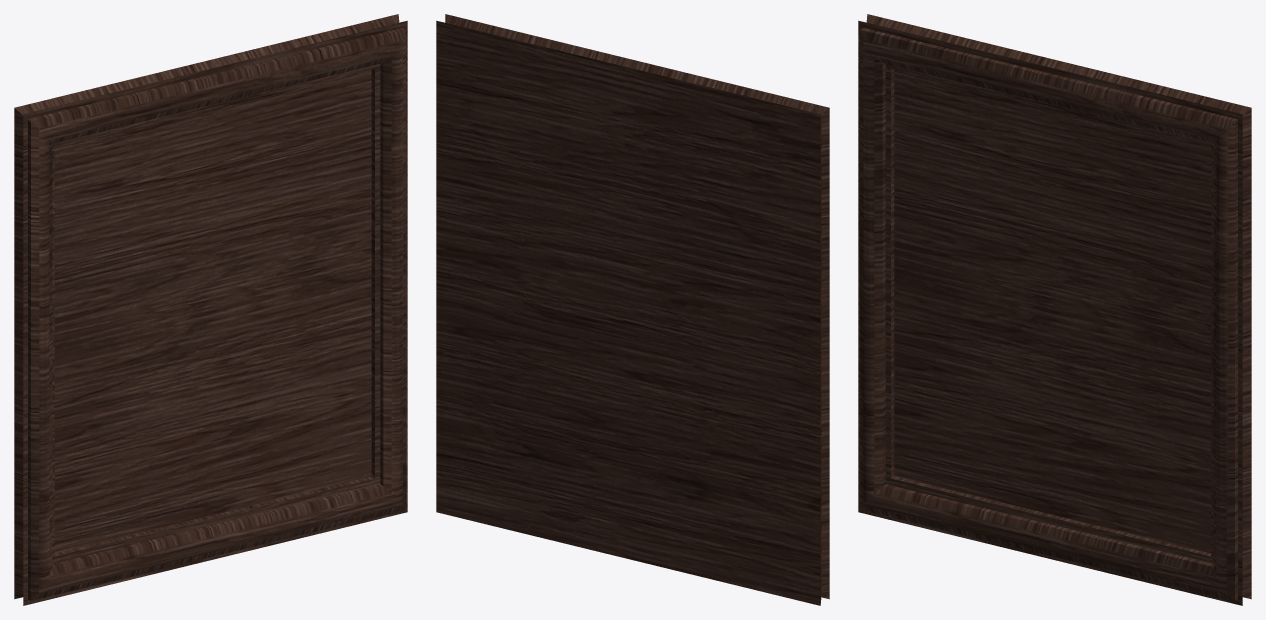
Rendered from fbx_Quadro_2.fbx.
3 renders of one model, left to right at view 1: azimuth 30°, elevation 25°; view 2: azimuth 150°, elevation 25°; view 3: azimuth 330°, elevation 25°, orthographic.
Parts seen in each view (by area): view 1: quadrinho1:pCube1; view 2: quadrinho1:pCube1; view 3: quadrinho1:pCube1.
Part boxes in pixels (x1,y1,x2,y2): quadrinho1:pCube1: [14, 14, 407, 605]; quadrinho1:pCube1: [436, 14, 829, 605]; quadrinho1:pCube1: [858, 14, 1251, 605].
Bounding box in the file's own units: 53.97 × 65.97 × 3.75.
1 material, 1 textured.
